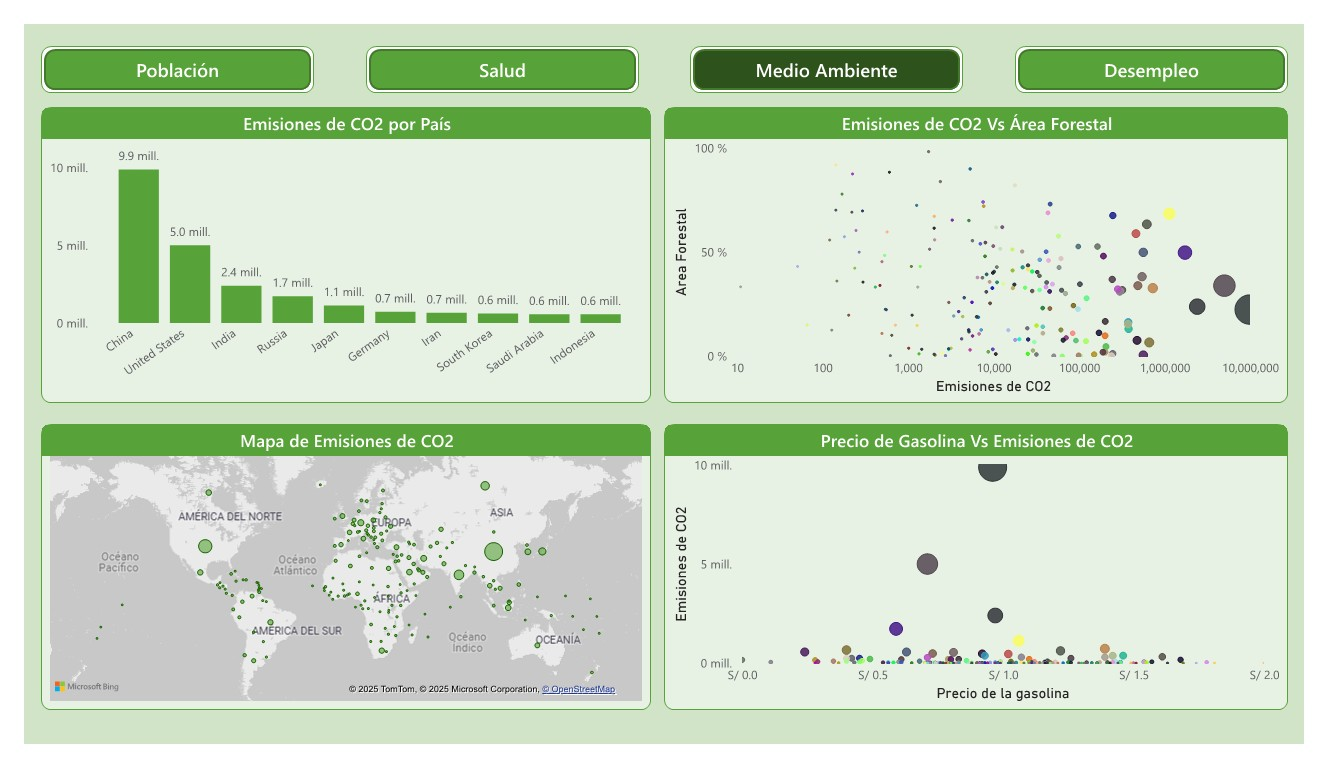

Layout of this report page (visuals, bound fields, positions):
{"tool":"powerbi","page":{"name":"Medio Ambiente","canvas":[1280,720],"ordinal":2},"visuals":[{"type":"shape","box":[17,22,273,47],"z":0},{"type":"shape","box":[341.7,22,273,47],"z":1},{"type":"shape","box":[991,22,273,47],"z":2},{"type":"shape","box":[666.3,22,273,47],"z":3},{"type":"scatterChart","title":"Emisiones de CO2 Vs Área Forestal","fields":{"Series":["world-data-2023.Country"],"X":["metricas.Emisiones de CO2"],"Y":["metricas.Area Forestal"],"Size":["metricas.Emisiones de CO2"]},"box":[640,83,624,296],"z":4},{"type":"columnChart","title":"Emisiones de CO2 por País","fields":{"Y":["metricas.Emisiones de CO2"],"Category":["world-data-2023.Country"]},"box":[17,83,610,296],"z":5},{"type":"map","title":"Mapa de Emisiones de CO2","fields":{"Category":["world-data-2023.Country"],"Size":["metricas.Emisiones de CO2"]},"box":[17,400,610,286],"z":6},{"type":"scatterChart","title":"Precio de Gasolina Vs Emisiones de CO2","fields":{"X":["metricas.Precio de la gasolina"],"Y":["metricas.Emisiones de CO2"],"Series":["world-data-2023.Country"],"Size":["metricas.Emisiones de CO2"]},"box":[640,400,624,286],"z":7}]}

Visuals, with their boxes in screenshot pixels (x1, y1, x2, y2), scaled from the page's 1280x720 canvas onto the 1328x768 screenshot:
shape: 18, 23, 301, 74
shape: 355, 23, 638, 74
shape: 1028, 23, 1311, 74
shape: 691, 23, 975, 74
"Emisiones de CO2 Vs Área Forestal" scatterChart: 664, 89, 1311, 404
"Emisiones de CO2 por País" columnChart: 18, 89, 651, 404
"Mapa de Emisiones de CO2" map: 18, 427, 651, 732
"Precio de Gasolina Vs Emisiones de CO2" scatterChart: 664, 427, 1311, 732
